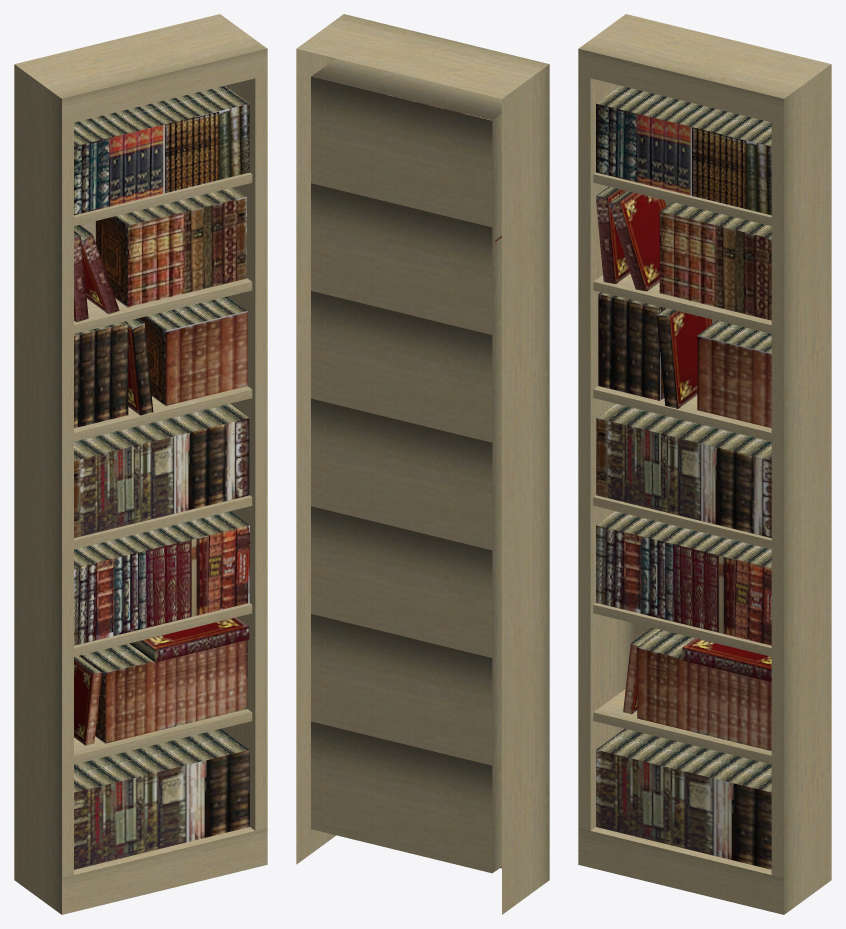
File: bookshelf_merovingian_corner_2.fbx
3 renders of one model, left to right at view 1: azimuth 30°, elevation 25°; view 2: azimuth 150°, elevation 25°; view 3: azimuth 330°, elevation 25°, orthographic.
Parts seen in each view (by area): view 1: mesh_0, mesh_1; view 2: mesh_0; view 3: mesh_0, mesh_1.
Part boxes in pixels (<box>): mesh_0: <box>14,14,267,914</box>; mesh_1: <box>74,86,249,792</box>; mesh_0: <box>296,14,549,914</box>; mesh_0: <box>578,14,831,914</box>; mesh_1: <box>596,85,771,792</box>.
Bounding box in the file's own units: 100 × 379 × 40.
2 materials, 2 textured.
